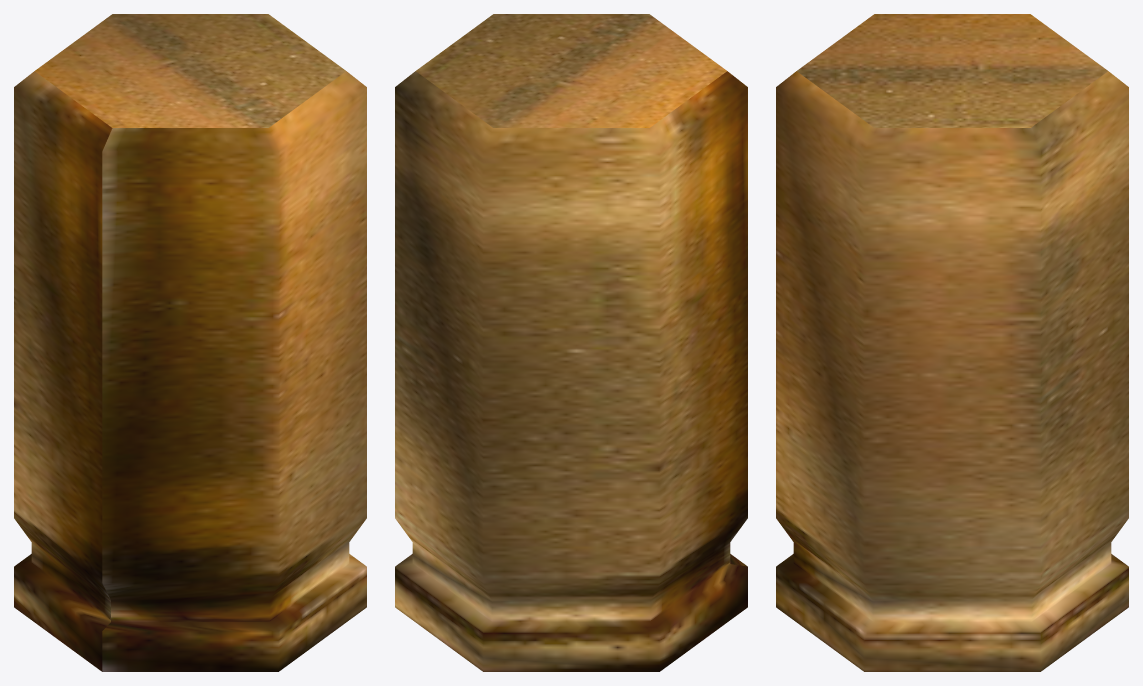
3 views of the same model, side by side, from view 1: azimuth 30°, elevation 25°; view 2: azimuth 150°, elevation 25°; view 3: azimuth 270°, elevation 25° (orthographic).
Visible parts, largest first — view 1: Cylinder; view 2: Cylinder; view 3: Cylinder.
Part boxes in pixels (x1,y1,x2,y2): Cylinder: [14, 14, 366, 671]; Cylinder: [395, 14, 747, 671]; Cylinder: [776, 14, 1128, 671].
Bounding box in the file's own units: 0.039 × 0.0755 × 0.045.
Materials: 1 (1 with a texture image).
